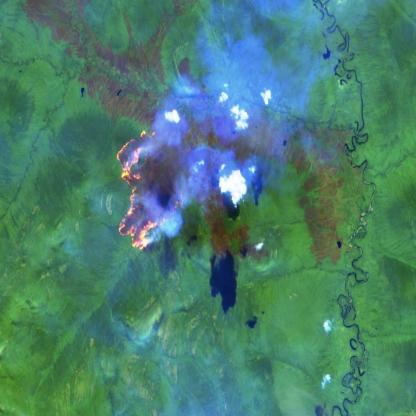fire: (110, 126, 179, 256)
